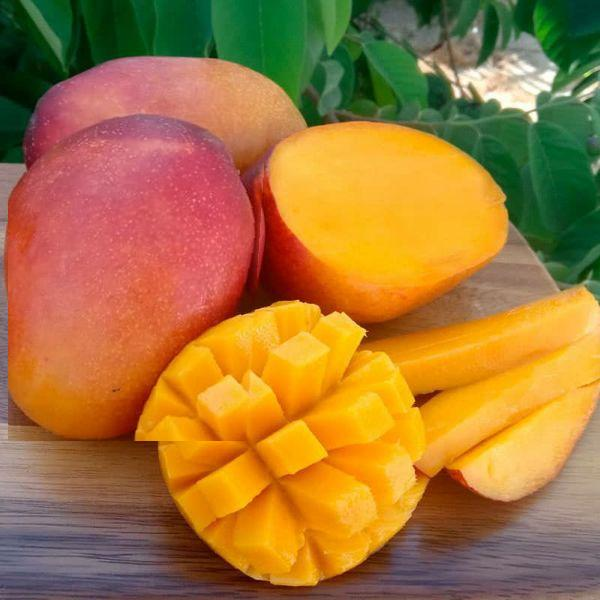Mango Semifresh: (9, 89, 270, 441)
